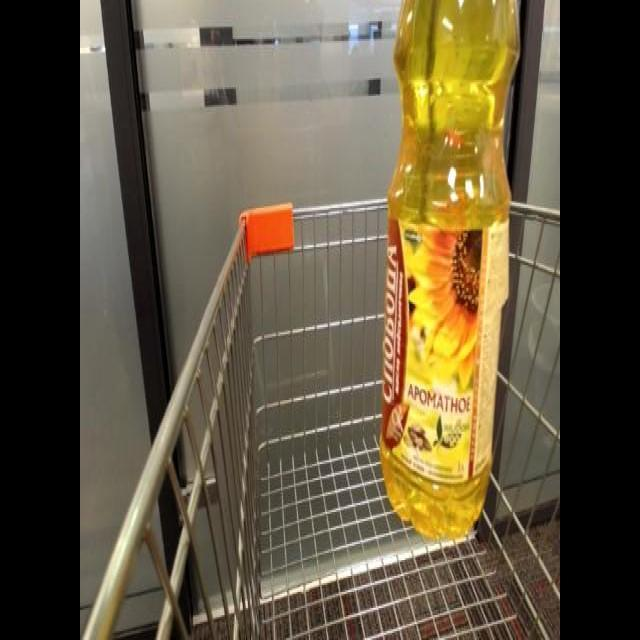Oil: (375, 1, 525, 547)
